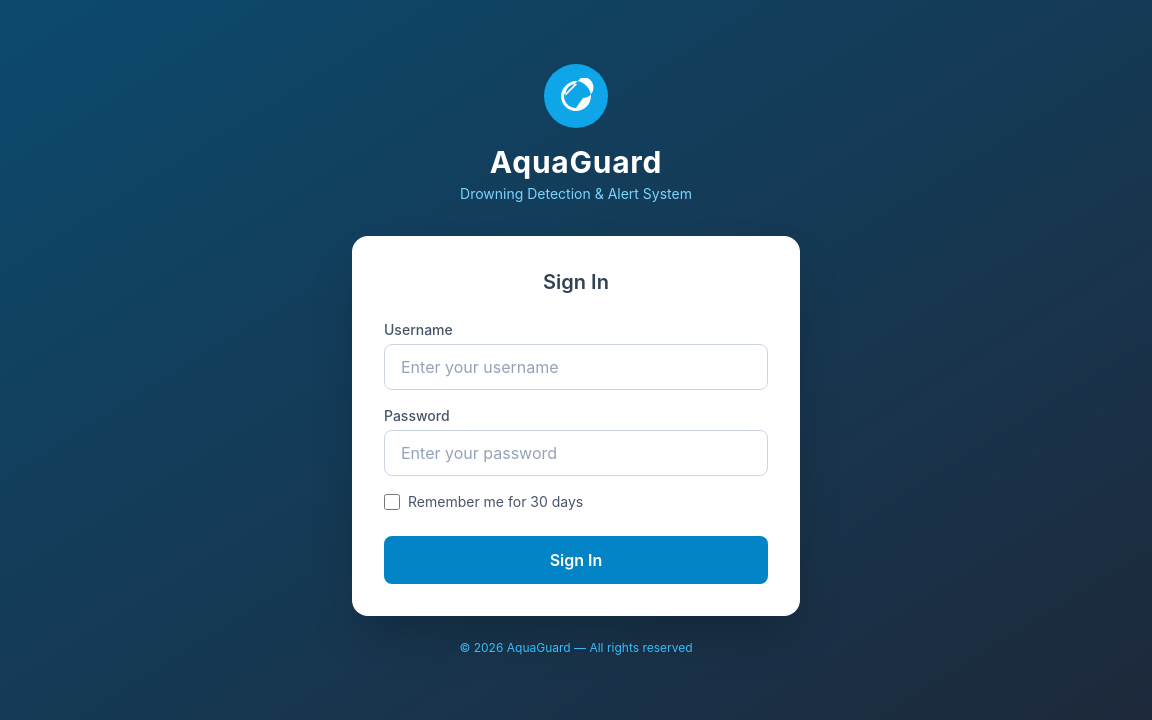
LoginPage › shows validation error when username is empty
The width and height of the screenshot is (1152, 720).
Click the button "Sign In": (576, 560) x1=384 y1=536 x2=768 y2=584
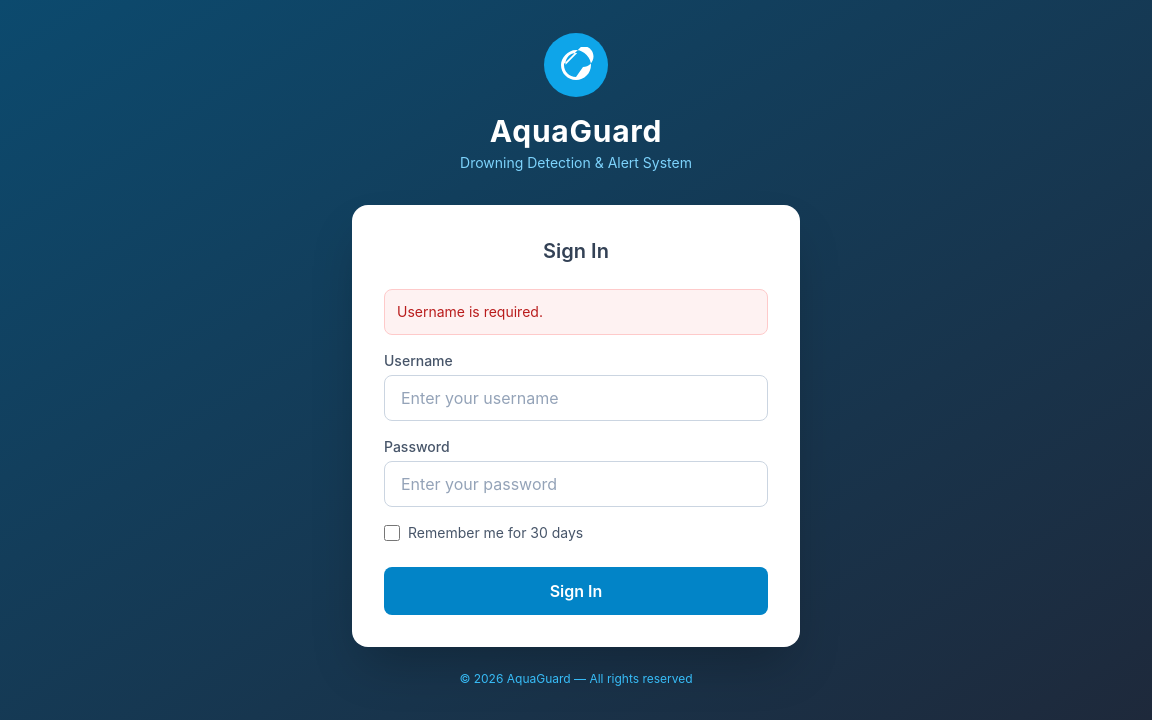
Expected: the message reads "Username is required.", x1=397 y1=303 x2=543 y2=320
